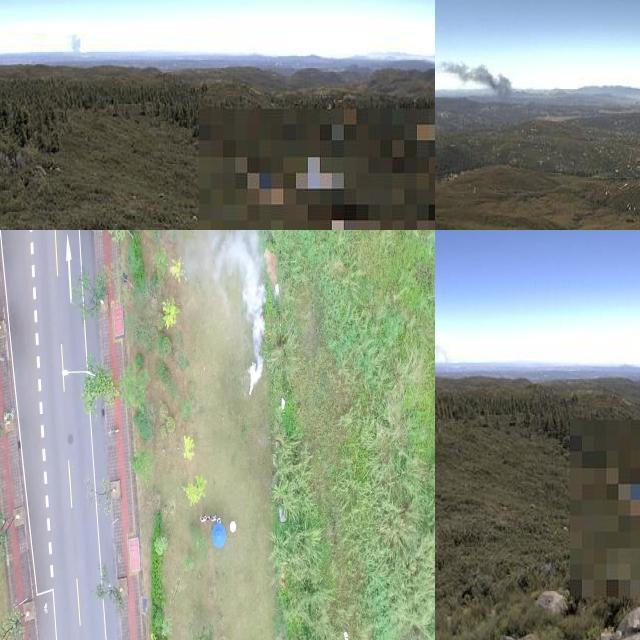smoke: (202, 230, 266, 395), (435, 56, 514, 106), (67, 29, 84, 60), (435, 340, 454, 365)
